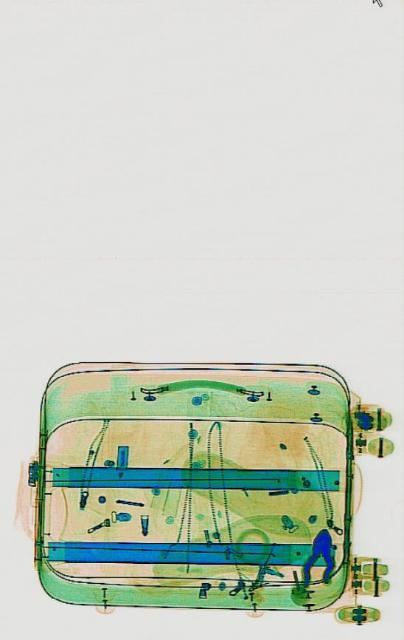Pliers: (299, 523, 338, 593)
